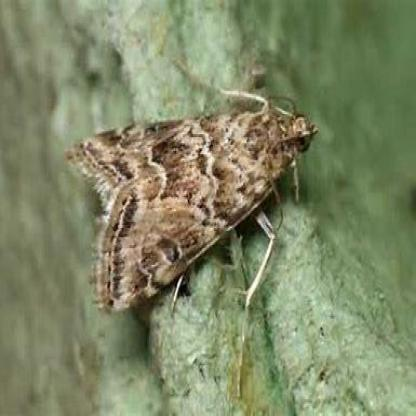Hellula undalis: (60, 53, 320, 400)
